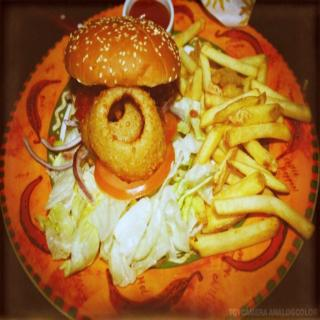French fries: (169, 60, 308, 265)
Hamburger: (64, 16, 182, 198)
